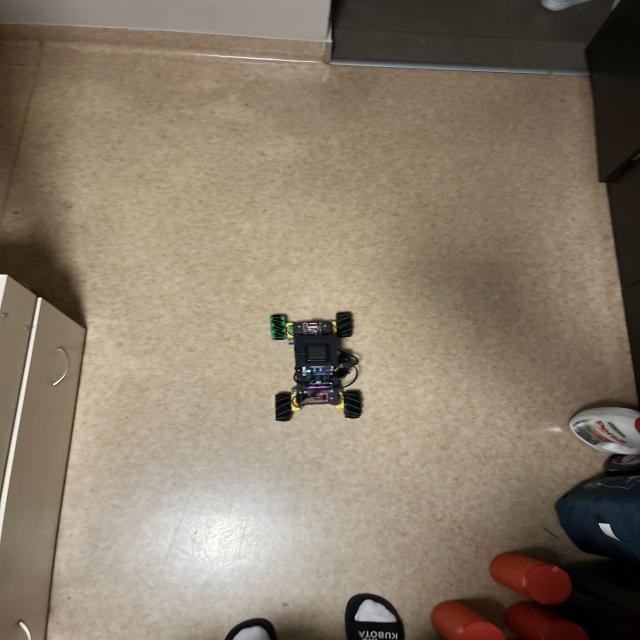robot: (270, 311, 361, 421)
